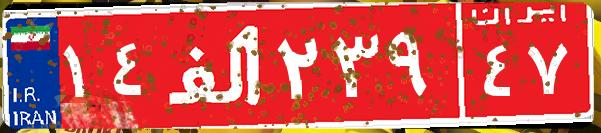1: (57, 26, 110, 107)
2: (273, 28, 330, 110)
3: (330, 28, 385, 110)
4: (475, 38, 525, 113), (110, 28, 158, 105)
7: (525, 38, 570, 115)
9: (385, 28, 445, 110)
الف: (158, 15, 273, 115)
